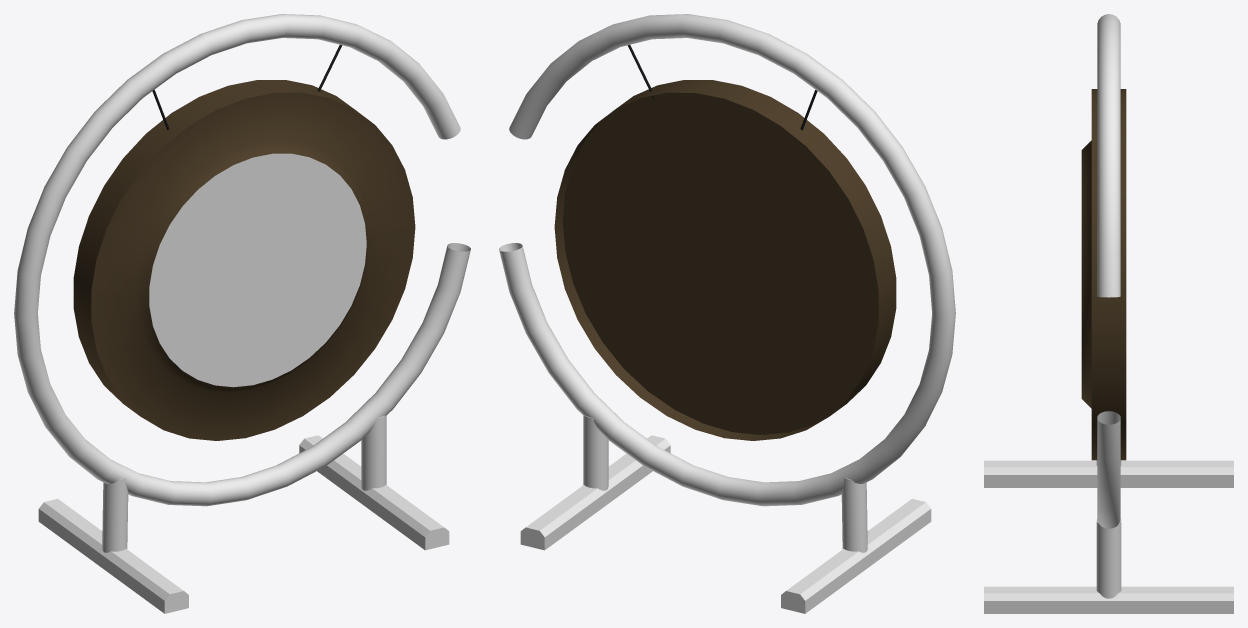
File: gong.dae
3 renders of one model, left to right at view 1: azimuth 30°, elevation 25°; view 2: azimuth 150°, elevation 25°; view 3: azimuth 270°, elevation 25°, orthographic.
Visible parts, largest first — view 1: Oil_Tank, Torus, Foot_1, Foot_2, Leg_1, Leg_2; view 2: Oil_Tank, Torus, Foot_1, Foot_2, Leg_1, Leg_2; view 3: Oil_Tank, Torus, Foot_2, Foot_1, Leg_2.
Part boxes in pixels (<box>): Oil_Tank: <box>73,80,415,440</box>; Torus: <box>14,14,470,506</box>; Foot_1: <box>38,498,188,613</box>; Foot_2: <box>299,435,449,550</box>; Leg_1: <box>102,478,128,552</box>; Leg_2: <box>361,415,386,490</box>; Oil_Tank: <box>554,80,896,440</box>; Torus: <box>499,14,955,506</box>; Foot_1: <box>781,498,931,613</box>; Foot_2: <box>520,435,670,550</box>; Leg_1: <box>841,478,867,552</box>; Leg_2: <box>583,415,608,490</box>; Oil_Tank: <box>1081,89,1126,460</box>; Torus: <box>1097,14,1120,528</box>; Foot_2: <box>984,586,1233,613</box>; Foot_1: <box>984,460,1233,487</box>; Leg_2: <box>1096,519,1121,598</box>.
Bounding box in the file's own units: 416 × 449 × 200.
